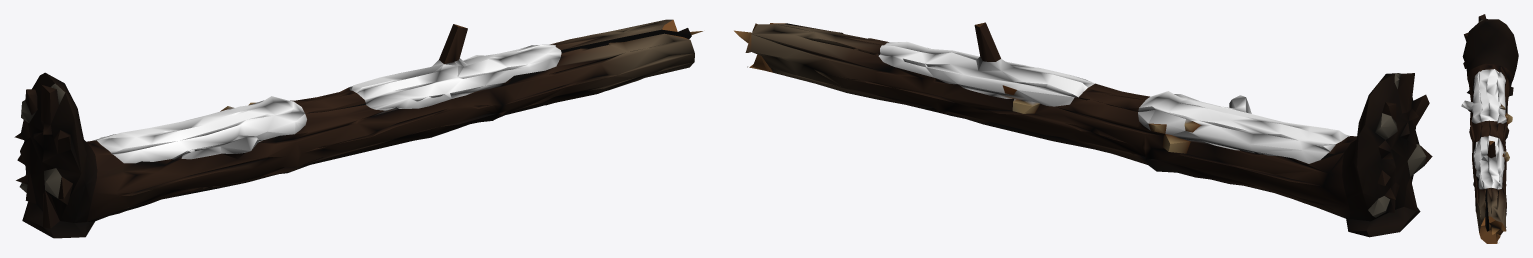
Rendered from log_fallen.glb.
3 renders of one model, left to right at view 1: azimuth 30°, elevation 25°; view 2: azimuth 150°, elevation 25°; view 3: azimuth 270°, elevation 25°, orthographic. The views are drawn at different scales.
Visible parts, largest first — view 1: log_fallen_LOD0; view 2: log_fallen_LOD0; view 3: log_fallen_LOD0.
Boxes of the visible parts, left/top/right/bottom form: log_fallen_LOD0: left=14, top=19, right=702, bottom=238; log_fallen_LOD0: left=734, top=22, right=1432, bottom=237; log_fallen_LOD0: left=1461, top=14, right=1518, bottom=243.
Size of what is drawn, in the model's own units: 8.39 by 1.74 by 1.24.
